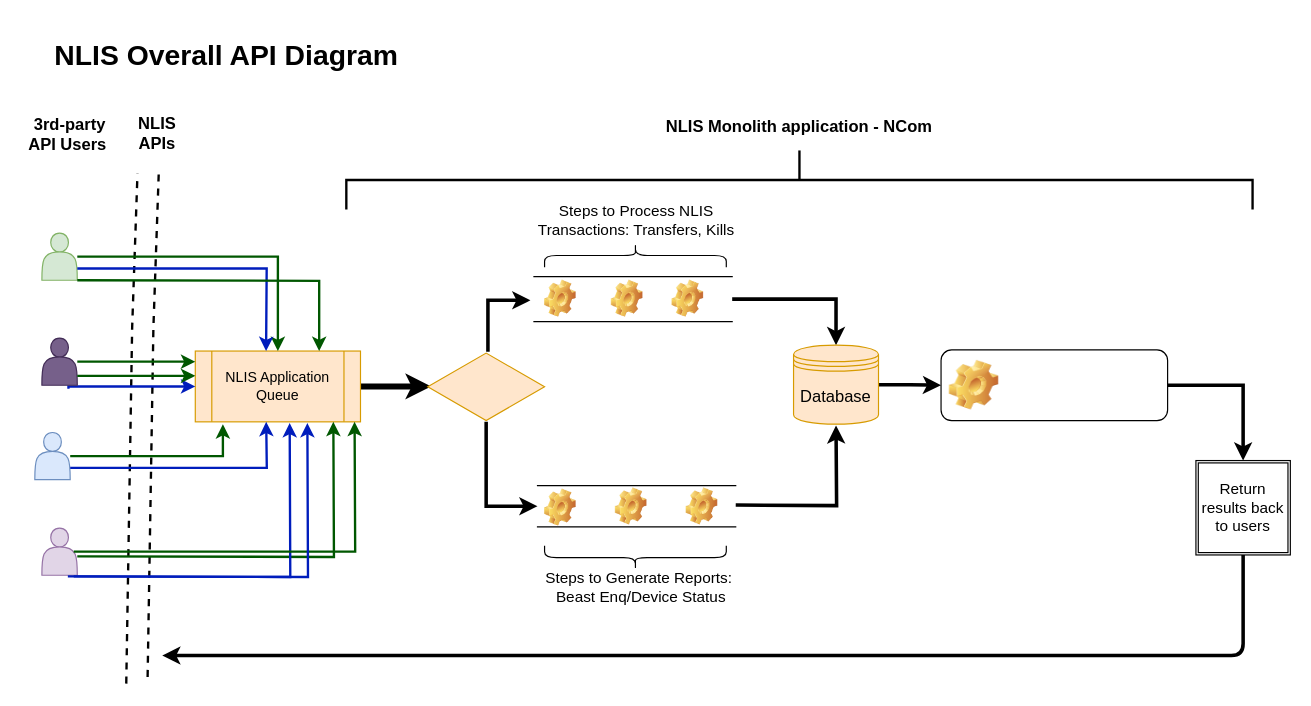
This 1311x706 diagram has some shape labels left out. Here are the shapes that lost their labels. From the top down, the centre of each, then its label:
(x=486, y=386): Request Types
(x=1054, y=385): Generate results for transactions/reports
